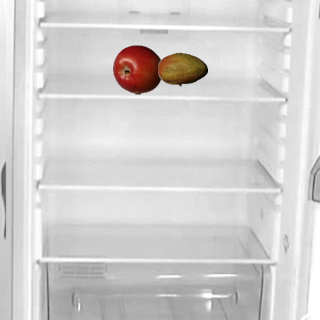Apple Braeburn: (112, 44, 162, 94)
Papaya: (157, 44, 207, 94)
